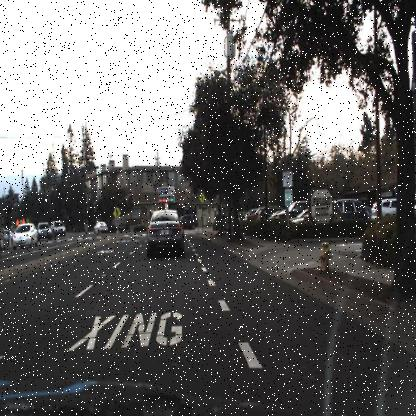car: (145, 205, 185, 258), (302, 198, 372, 225), (272, 198, 312, 223), (10, 220, 40, 250), (366, 196, 400, 222), (244, 200, 268, 227), (181, 209, 203, 236), (49, 218, 70, 242), (93, 217, 109, 240), (37, 221, 52, 245), (92, 218, 110, 237)
